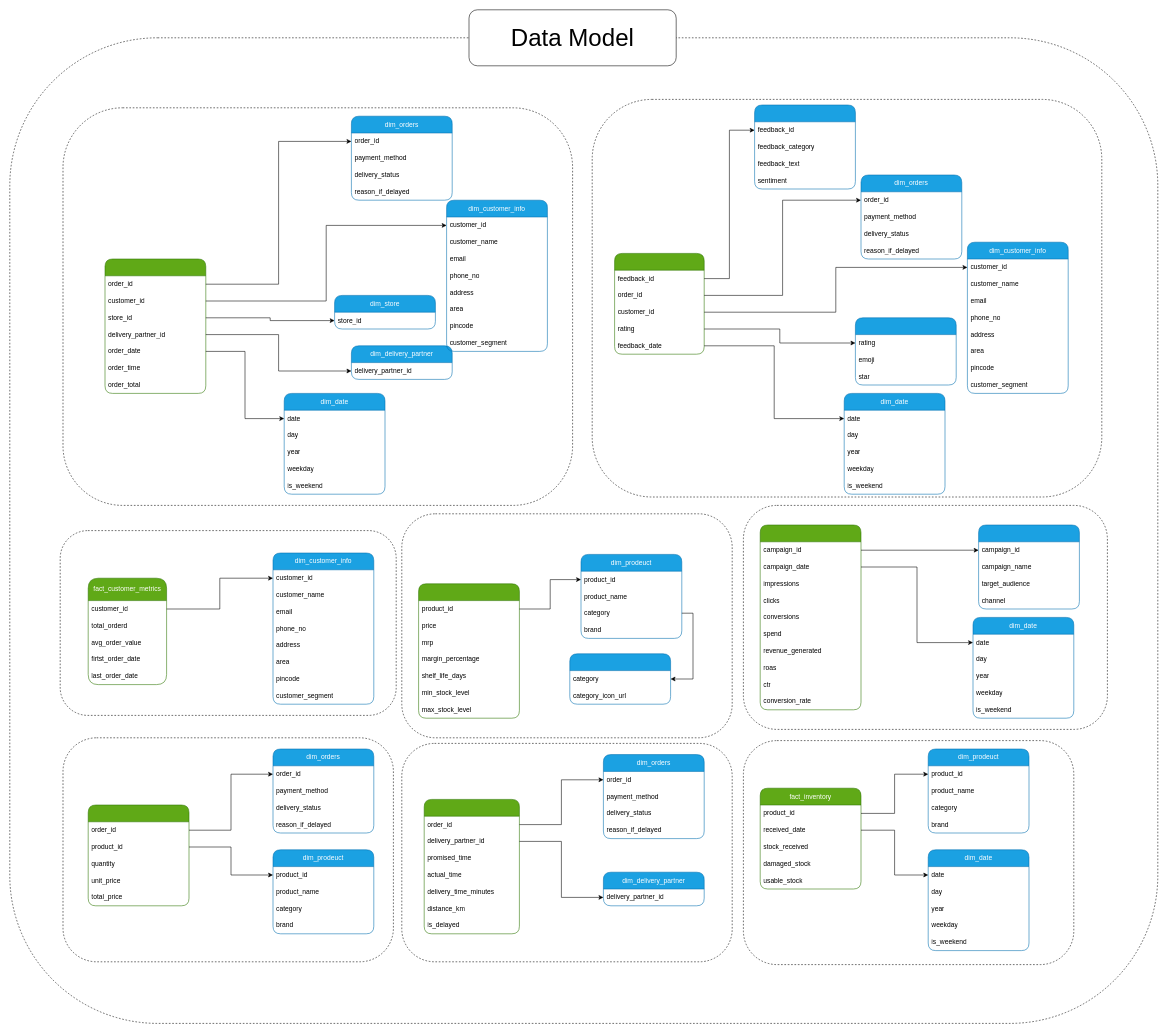
Some shapes in this 1168 by 1033 pixel diagram are drawn without their labels. The box of each missing label's shape, as (x1, y1, x2, y2) in pixels:
dim_category_icon: (569, 653, 671, 704)
dim_customer_feedback: (754, 104, 855, 189)
dim_marketing_performance: (978, 524, 1079, 609)
dim_rating_icon: (855, 317, 956, 385)
fact_customer_feedback: (614, 253, 704, 354)
fact_delivery_performance: (424, 799, 519, 934)
fact_marketing_performance: (760, 524, 861, 710)
fact_orders: (104, 258, 206, 393)
fact_orders_items: (88, 804, 189, 906)
fact_product: (418, 583, 519, 718)
